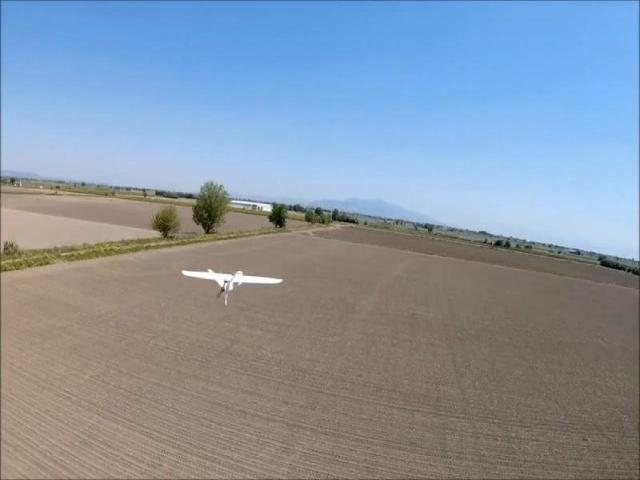hedef: (175, 257, 289, 312)
